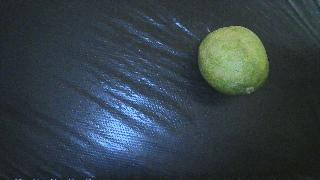DESECHO: (198, 26, 269, 95)
